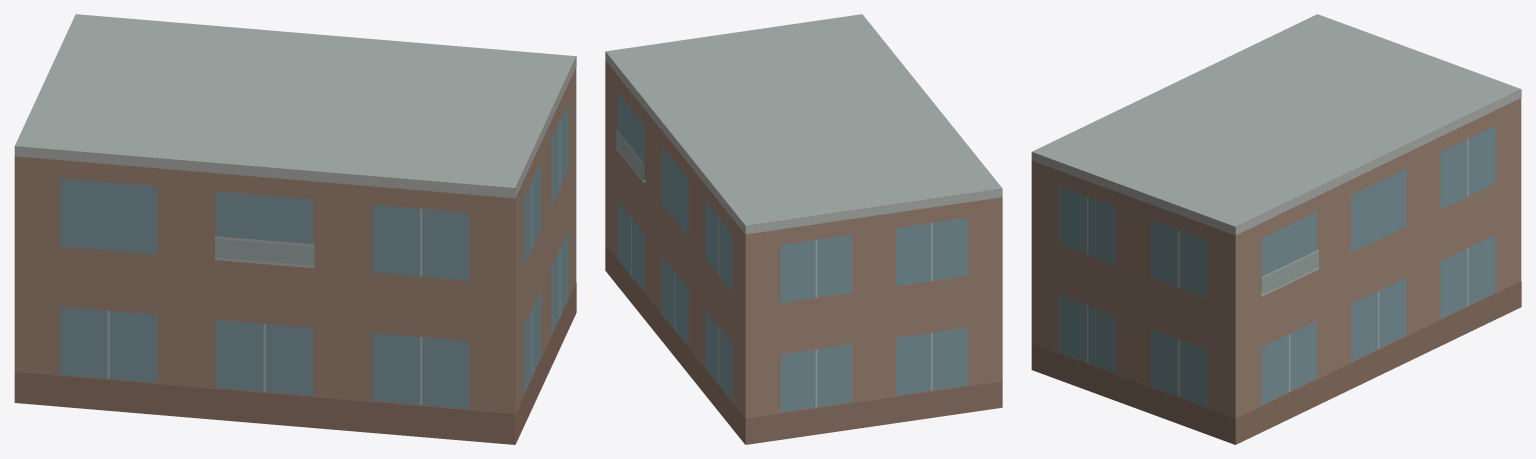
File: survey-upis-32817585.glb
The picture shows the model from 3 angles, left to right: view 1: azimuth 30°, elevation 25°; view 2: azimuth 150°, elevation 25°; view 3: azimuth 270°, elevation 25°; orthographic projection. The views are drawn at different scales.
Visible parts, largest first — view 1: survey-upis-32817585.tmp; view 2: survey-upis-32817585.tmp; view 3: survey-upis-32817585.tmp.
Boxes of the visible parts, bbox=[...] form: survey-upis-32817585.tmp: bbox=[14, 14, 576, 444]; survey-upis-32817585.tmp: bbox=[605, 14, 1002, 444]; survey-upis-32817585.tmp: bbox=[1031, 14, 1521, 444].
Size of the model in its own units: 12.77 by 6.1 by 12.42.
